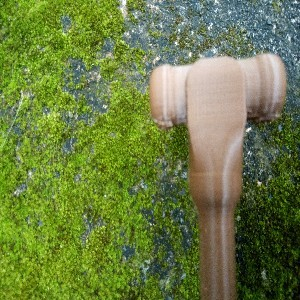palu: (148, 52, 287, 300)
